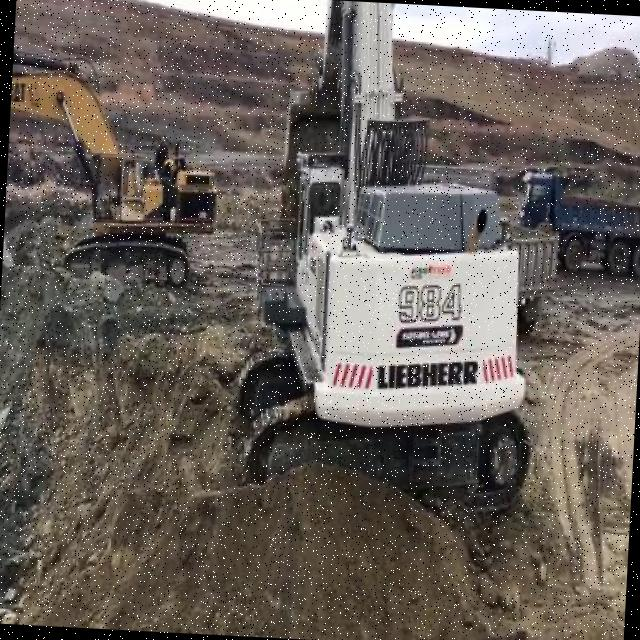Dump Truck: (513, 168, 640, 276), (498, 217, 560, 336)
Excavator: (226, 0, 554, 518), (2, 47, 225, 296)
